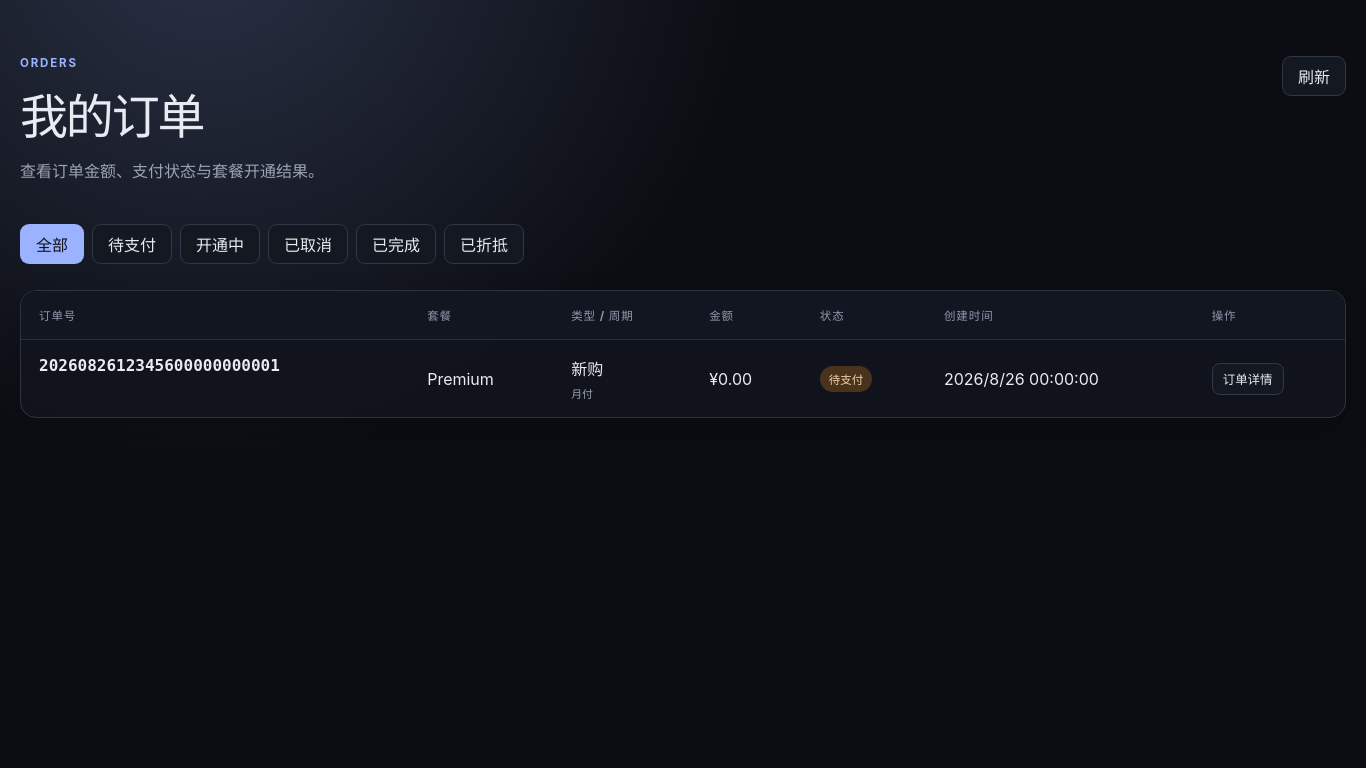
Test: UserOrdersPage › preserves a newer discounted server snapshot over an older local checkout completion
Expected: the text "2026082612345600000000001" is shown, [39,356,280,375]
Step 1. Click the button "已折抵" → (484, 244), box [444,224,524,264]
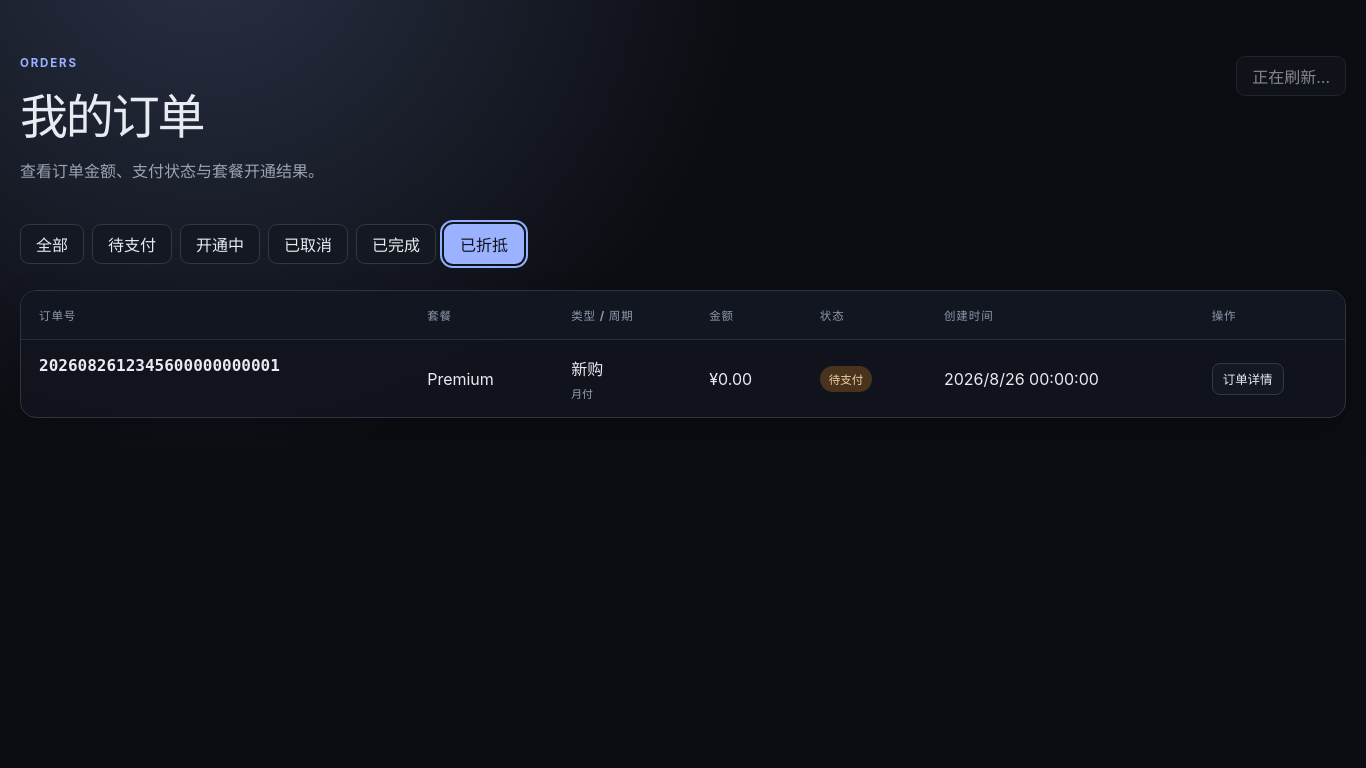
Step 2. Click the button "订单详情" → (1248, 378), box [1212,362,1284,394]
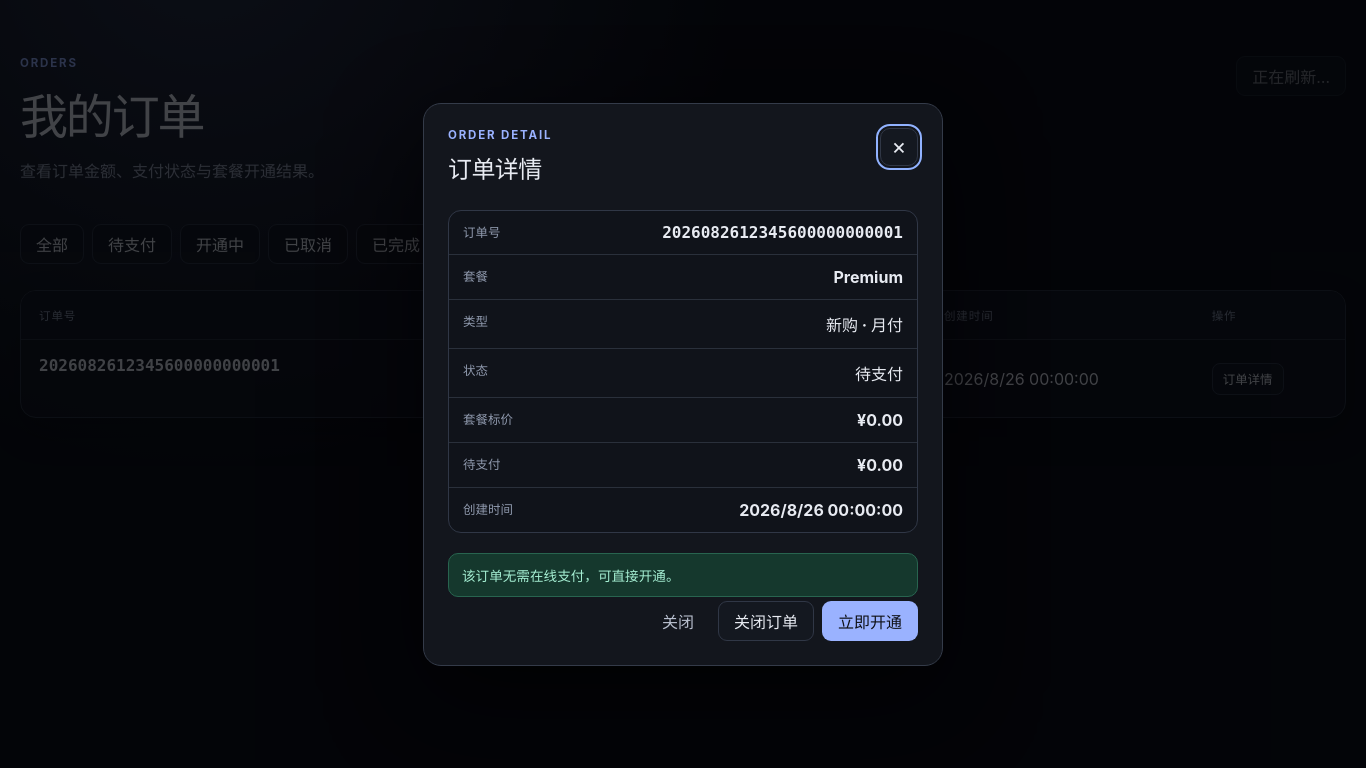
Step 3. Click the button "立即开通" → (870, 620), box [822,600,918,640]
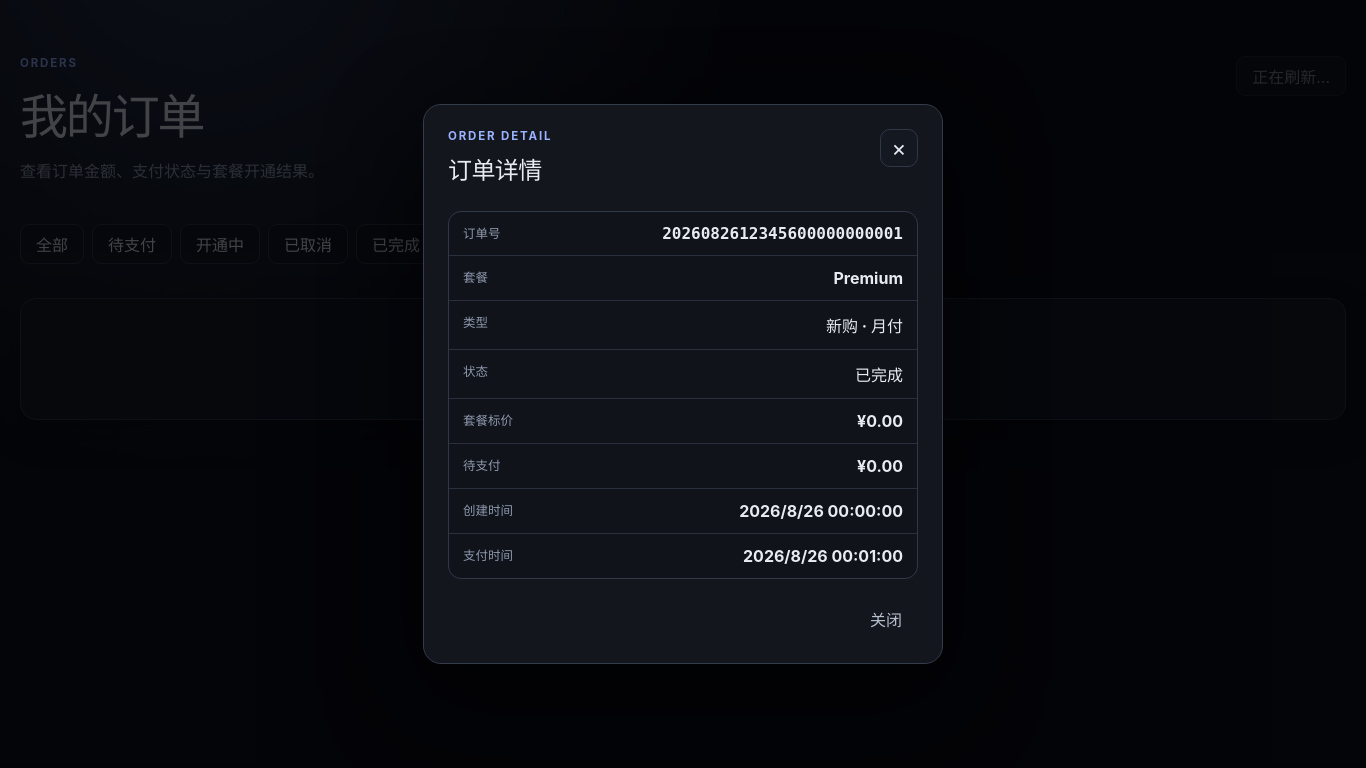
Step 4. Click the button named "关闭订单详情" → (899, 148), box [880,129,918,167]
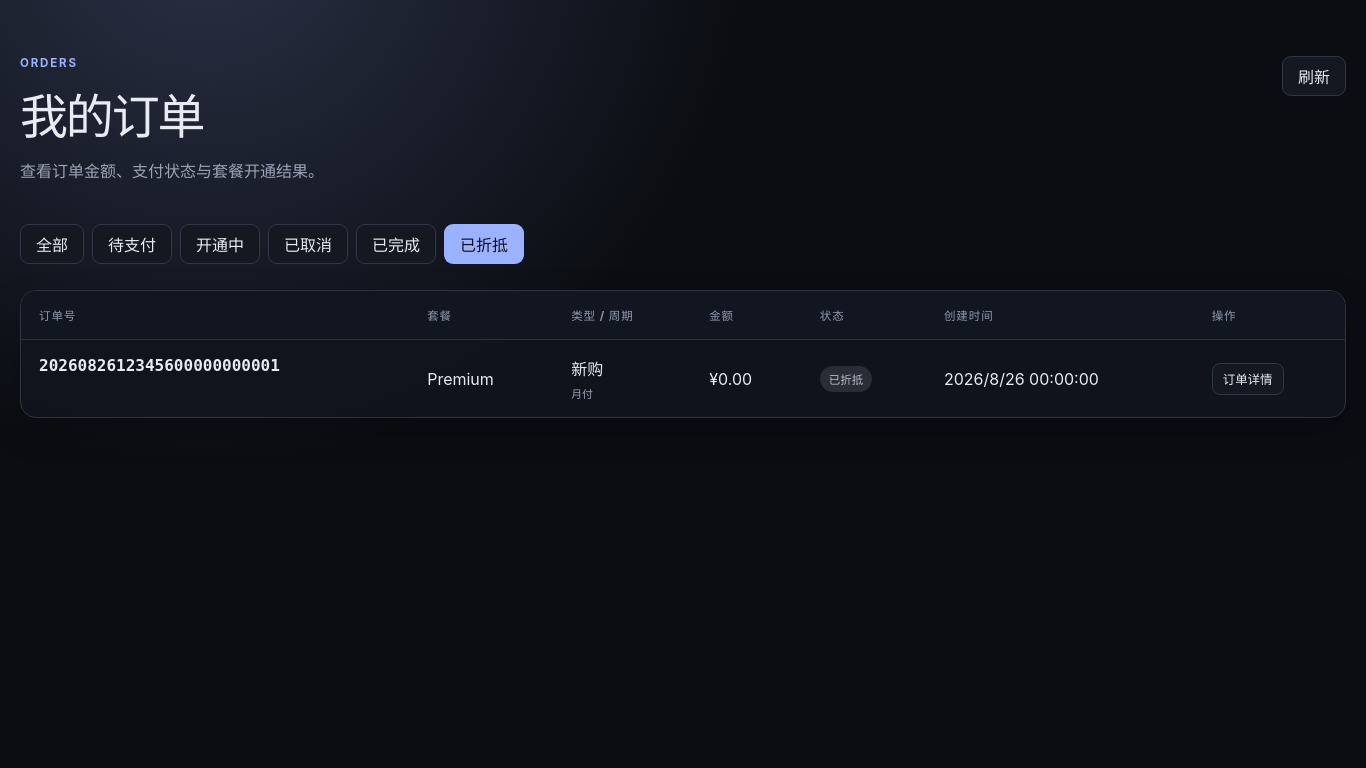
Expected: the text "2026082612345600000000001" is shown, [39,356,280,375]
Result: the text "已折抵" is shown at [820,366,872,392]
